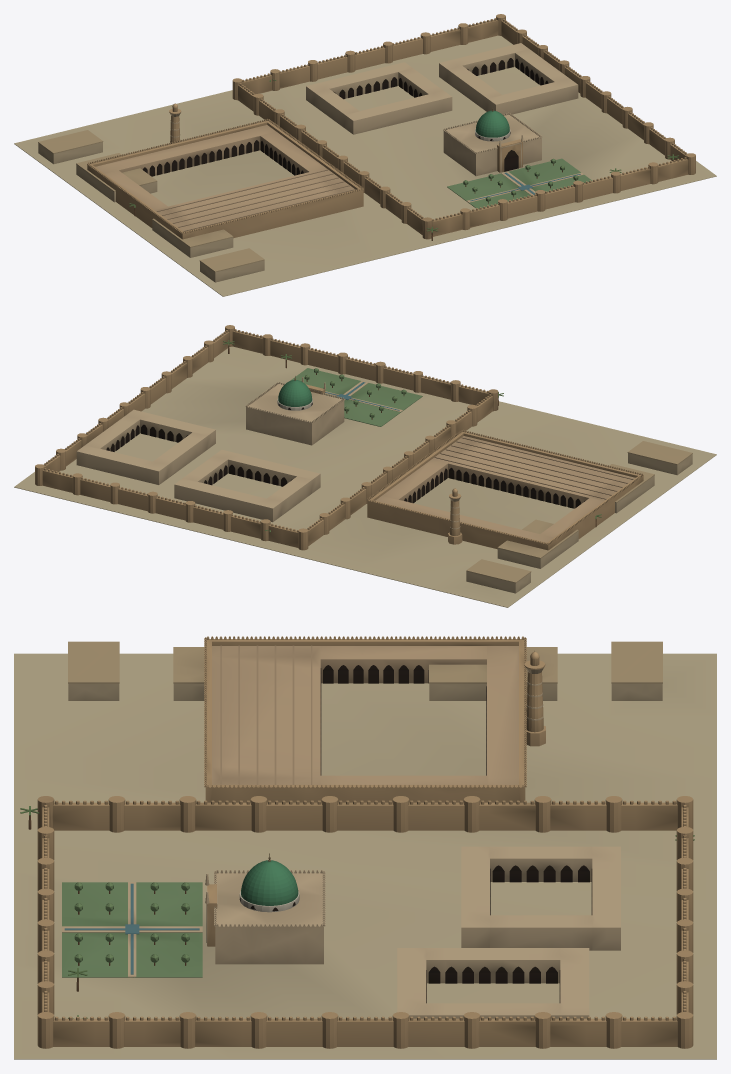
The model's file is rusafa.glb.
3 renders of one model, top to bottom at view 1: azimuth 30°, elevation 25°; view 2: azimuth 150°, elevation 25°; view 3: azimuth 270°, elevation 25°, orthographic. The views are drawn at different scales.
Visible parts, largest first — view 1: p0_mosque, p1_palace walls, p2_palace, p3_dome; view 2: p0_mosque, p1_palace walls, p2_palace, p3_dome; view 3: p0_mosque, p1_palace walls, p2_palace, p3_dome.
Boxes of the visible parts, x1,y1,x2,y2 form: p0_mosque: [14, 35, 716, 296]; p1_palace walls: [95, 14, 695, 239]; p2_palace: [38, 43, 592, 282]; p3_dome: [129, 79, 678, 235]; p0_mosque: [14, 346, 716, 607]; p1_palace walls: [35, 325, 635, 550]; p2_palace: [76, 368, 692, 593]; p3_dome: [223, 340, 601, 532]; p0_mosque: [14, 636, 716, 1059]; p1_palace walls: [37, 645, 693, 1048]; p2_palace: [62, 641, 662, 1018]; p3_dome: [20, 806, 694, 1018].
Size of the model in its own units: 300 by 31.65 by 220.
